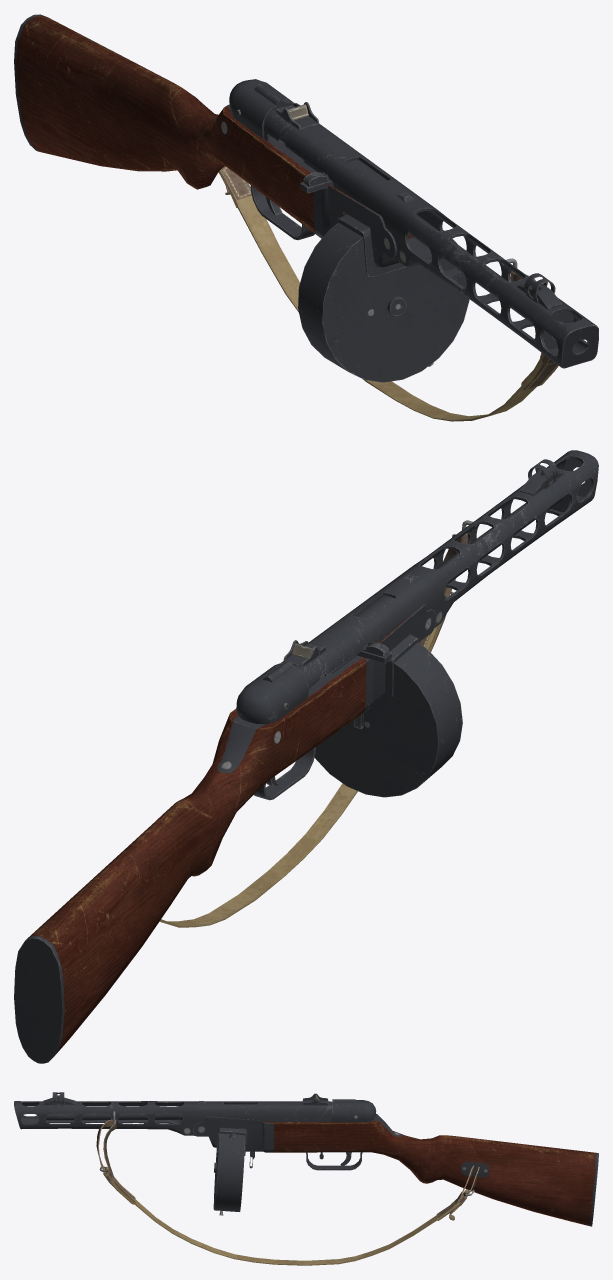
File: PPSH 41.fbx
The picture shows the model from 3 angles, top to bottom: view 1: azimuth 30°, elevation 25°; view 2: azimuth 150°, elevation 25°; view 3: azimuth 270°, elevation 25°; orthographic projection. The views are drawn at different scales.
Parts seen in each view (by area): view 1: ppsh; view 2: ppsh; view 3: ppsh.
Part boxes in pixels (x1,y1,x2,y2): ppsh: [14, 14, 598, 421]; ppsh: [14, 450, 598, 1063]; ppsh: [14, 1092, 598, 1265].
Bounding box in the file's own units: 11.12 × 20.85 × 72.09.
1 material, 1 textured.
